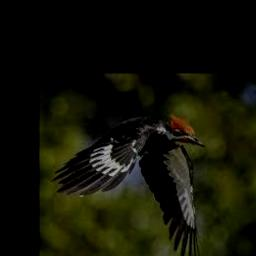Woodpecker: (51, 113, 205, 256)
